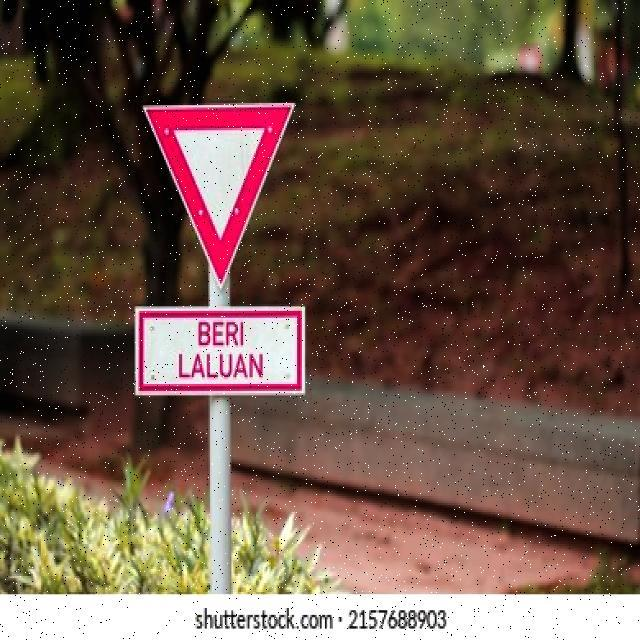Traffic sign: (131, 98, 311, 404)
